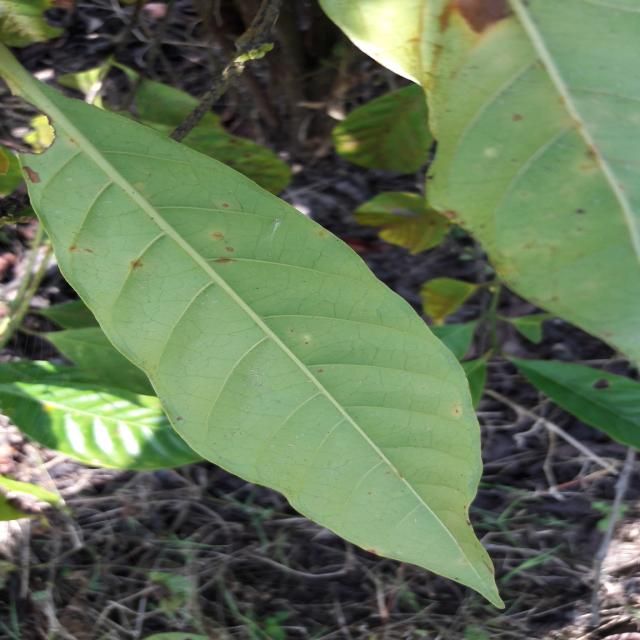Enfermedad-Roya: (17, 75, 503, 610)
